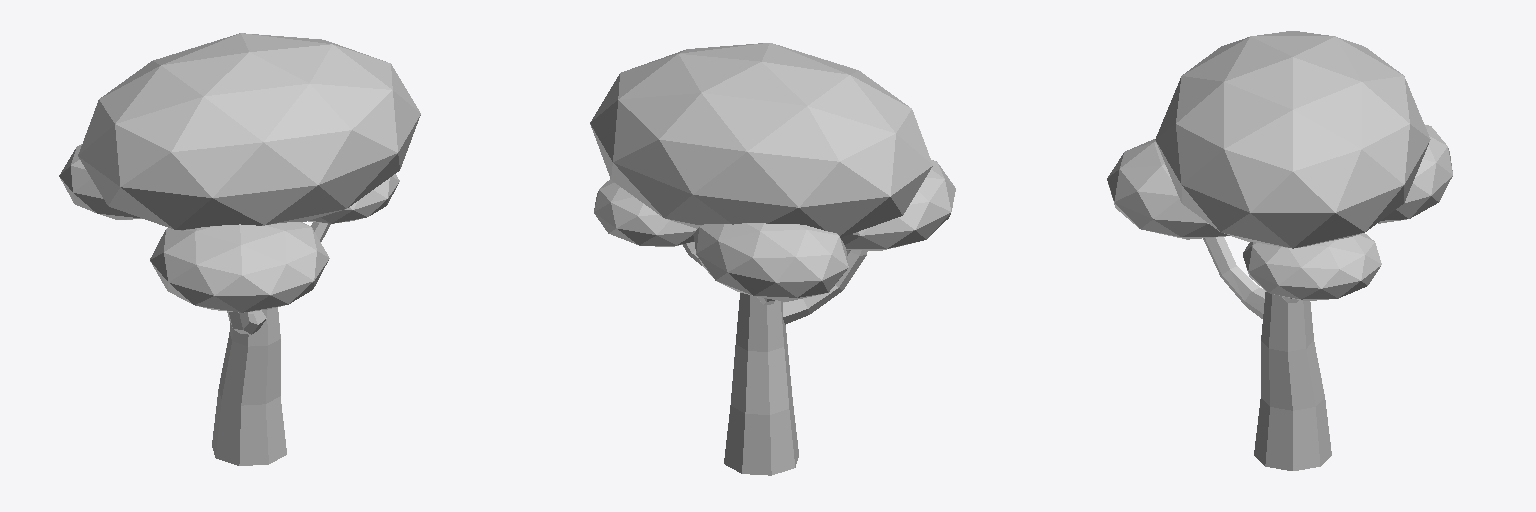
Rendered from Arbol_Bosque_final.obj.
The picture shows the model from 3 angles: view 1: azimuth 30°, elevation 25°; view 2: azimuth 150°, elevation 25°; view 3: azimuth 270°, elevation 25°; orthographic projection.
Visible parts, largest first — view 1: copa.003_Icosphere.003; view 2: copa.003_Icosphere.003; view 3: copa.003_Icosphere.003.
Boxes of the visible parts, box(x1,y1,x2,y2) form: copa.003_Icosphere.003: box(59, 33, 420, 465); copa.003_Icosphere.003: box(590, 43, 955, 475); copa.003_Icosphere.003: box(1107, 31, 1452, 470).
Bounding box in the file's own units: 10.9 × 13.78 × 10.87.